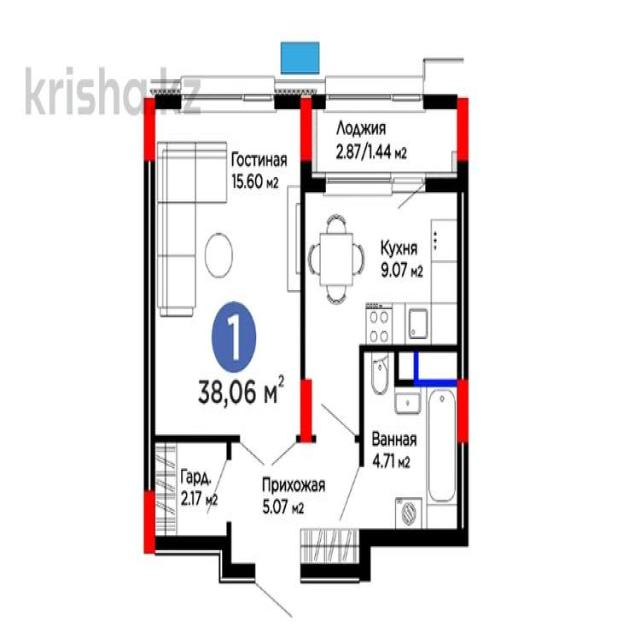balcony: (308, 99, 462, 182)
bathroom: (363, 350, 459, 536)
hallway: (230, 440, 360, 576)
kitchen: (301, 181, 459, 348)
living_room: (147, 93, 304, 439)
other: (150, 440, 228, 548)
